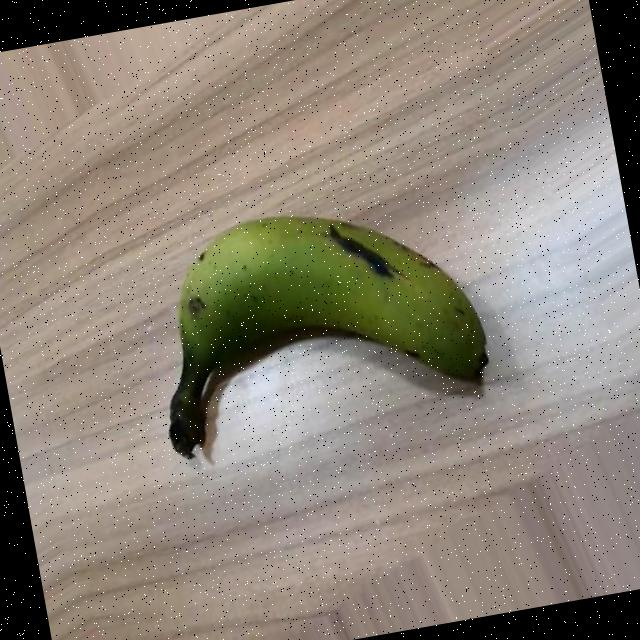Unripe: (134, 181, 496, 461)
